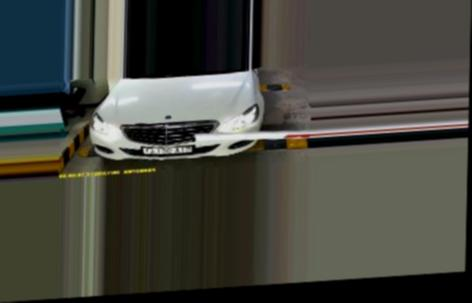License_Plate: (141, 143, 196, 157)
